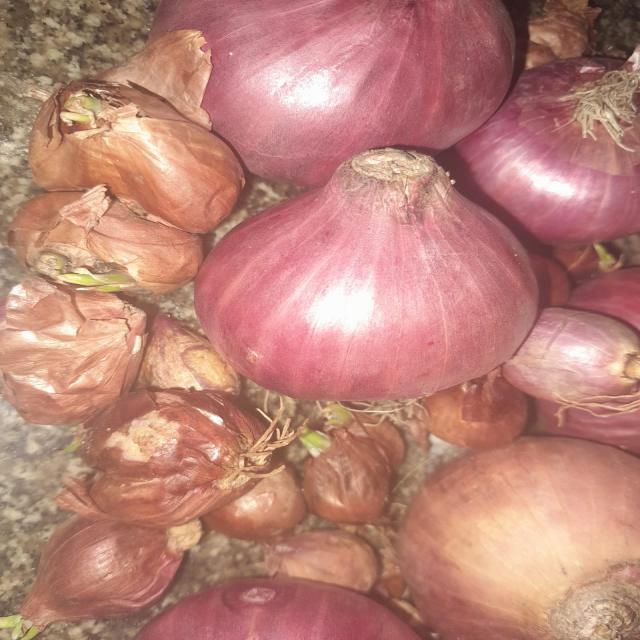sprouting: (50, 261, 152, 309), (277, 411, 337, 447), (52, 87, 93, 131)
